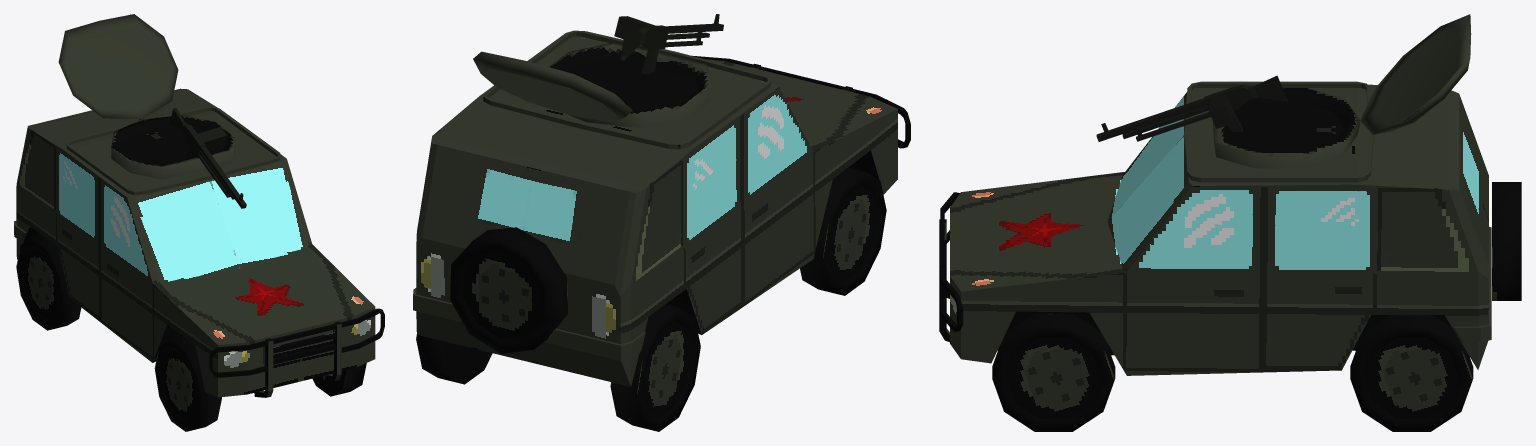
The model's file is jeep.glb.
3 views of the same model, side by side, from view 1: azimuth 30°, elevation 25°; view 2: azimuth 150°, elevation 25°; view 3: azimuth 270°, elevation 25° (orthographic). The views are drawn at different scales.
Visible parts, largest first — view 1: jeap, Cube; view 2: jeap, Cube; view 3: jeap, Cube.
Boxes of the visible parts, x1,y1,x2,y2 form: jeap: (14,14,384,431); Cube: (169,108,246,208); jeap: (413,30,910,431); Cube: (614,14,723,74); jeap: (939,14,1521,431); Cube: (1096,75,1287,141).
Bounding box in the file's own units: 2.33 × 3.4 × 5.18.
Materials: 2 (1 with a texture image).
